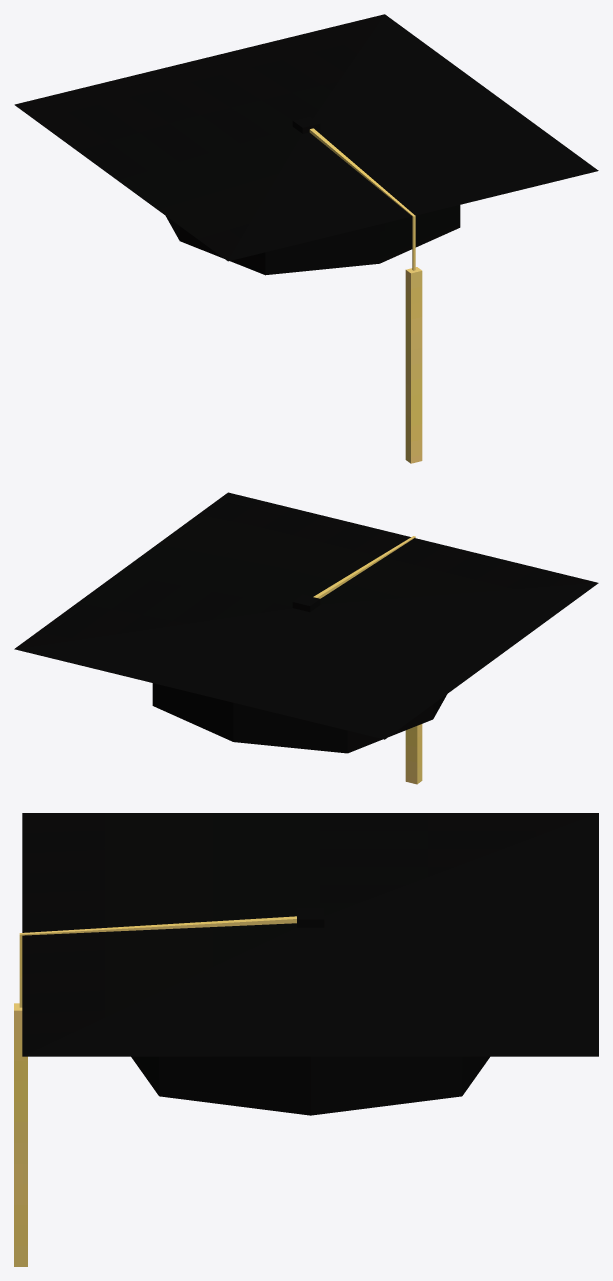
The model's file is graduation-cap.glb.
3 views of the same model, one above another, from view 1: azimuth 30°, elevation 25°; view 2: azimuth 150°, elevation 25°; view 3: azimuth 270°, elevation 25° (orthographic). The views are drawn at different scales.
Visible parts, largest first — view 1: Cube.025_Cube.043; view 2: Cube.025_Cube.043; view 3: Cube.025_Cube.043.
Part boxes in pixels (left/top/right/bottom): Cube.025_Cube.043: left=14, top=14, right=598, bottom=463; Cube.025_Cube.043: left=14, top=492, right=598, bottom=784; Cube.025_Cube.043: left=14, top=813, right=598, bottom=1266.
Bounding box in the file's own units: 1.49 × 0.9998 × 1.52.
Materials: 1 (1 with a texture image).
